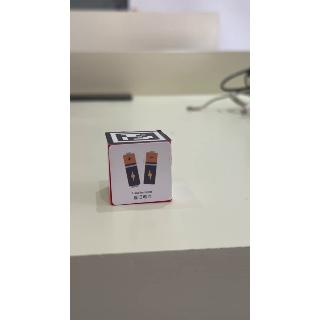Used_Battery: (111, 147, 173, 204)
